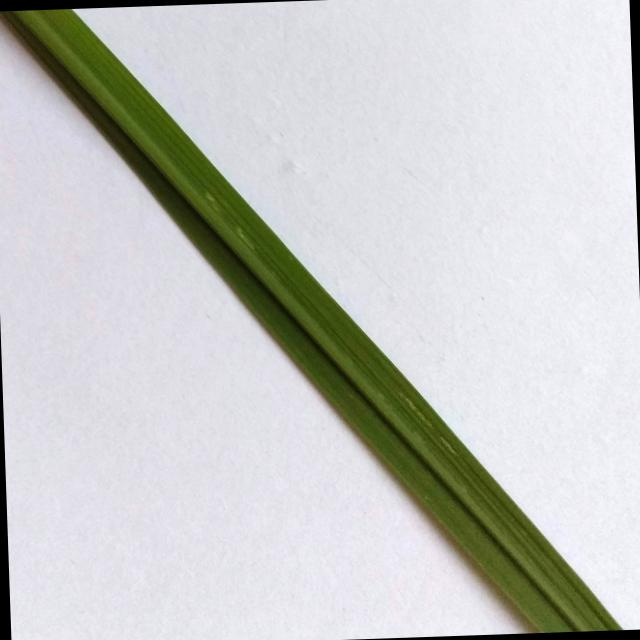Rice_Healthy: (1, 8, 621, 632)
